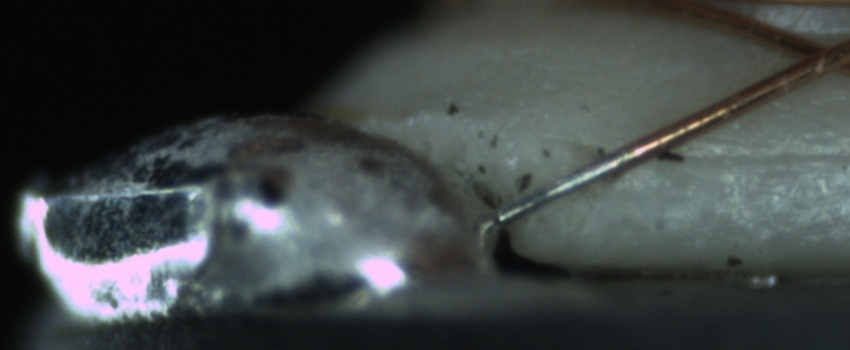CL: (776, 28, 849, 84)
DL: (576, 127, 849, 182)
TS: (495, 150, 633, 227)
